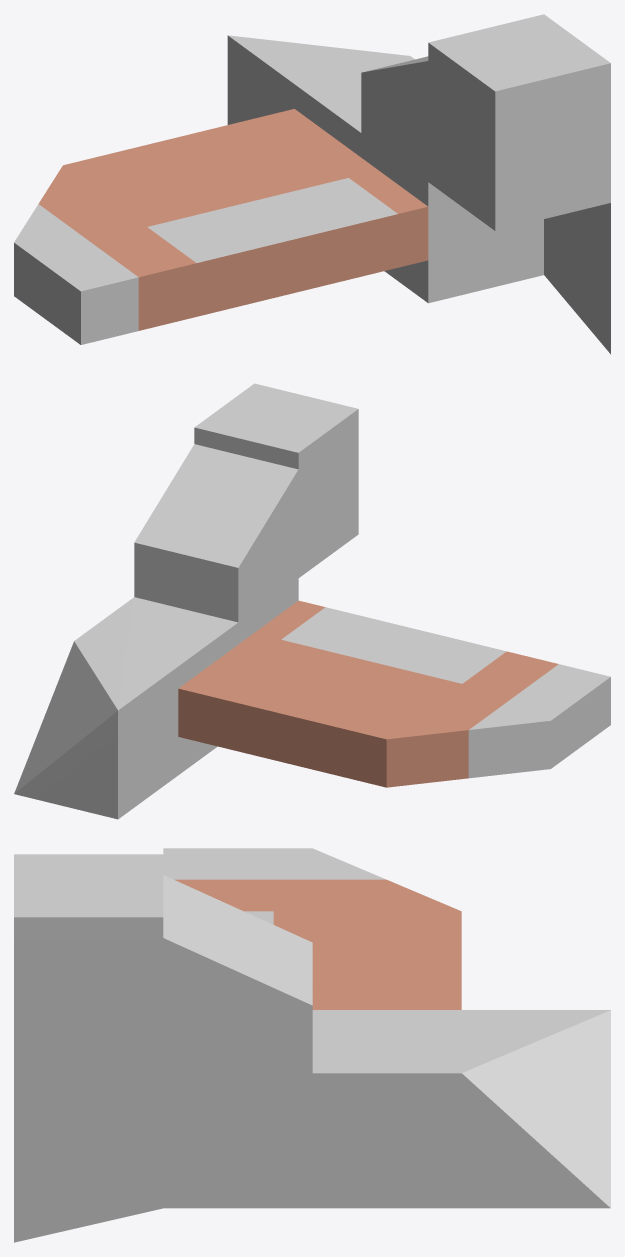
3 views of the same model, one above another, from view 1: azimuth 30°, elevation 25°; view 2: azimuth 150°, elevation 25°; view 3: azimuth 270°, elevation 25° (orthographic). The views are drawn at different scales.
Parts seen in each view (by area): view 1: spaceCraft1_8angles; view 2: spaceCraft1_8angles; view 3: spaceCraft1_8angles.
Boxes of the visible parts, <box> form: spaceCraft1_8angles: <box>14,14,610,354</box>; spaceCraft1_8angles: <box>14,383,610,819</box>; spaceCraft1_8angles: <box>14,848,610,1242</box>.
Size of the model in its own units: 790 by 475 by 790.
